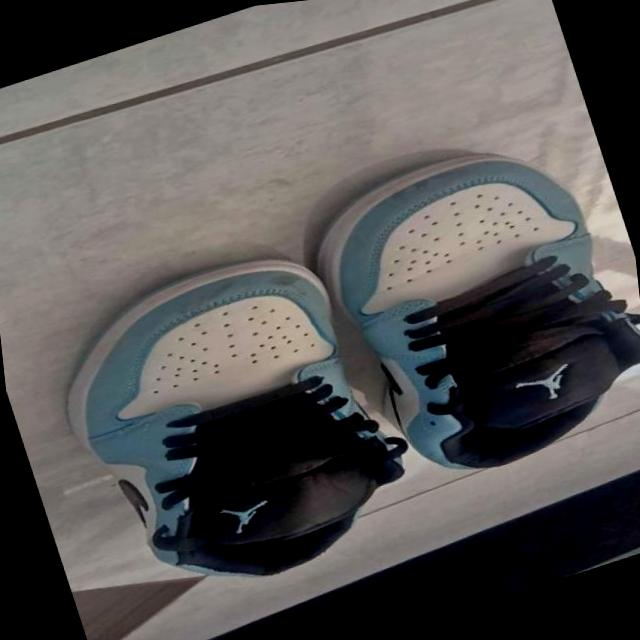nike_fake_jordan: (27, 223, 434, 624), (300, 107, 640, 504)
